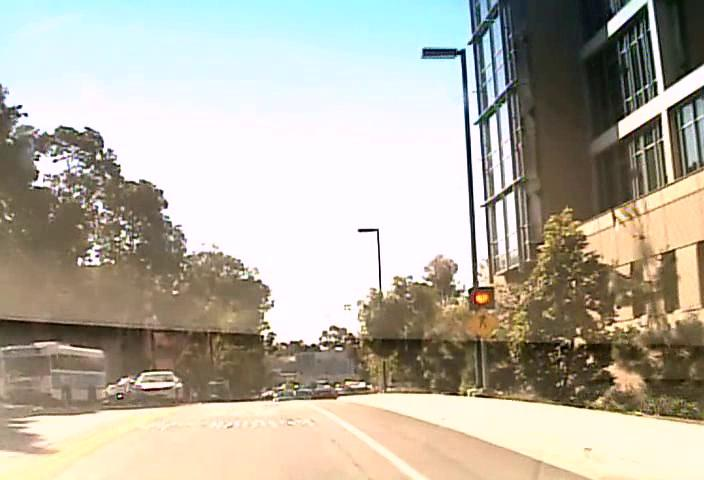pedestrianCrossing: (465, 305, 499, 340)
